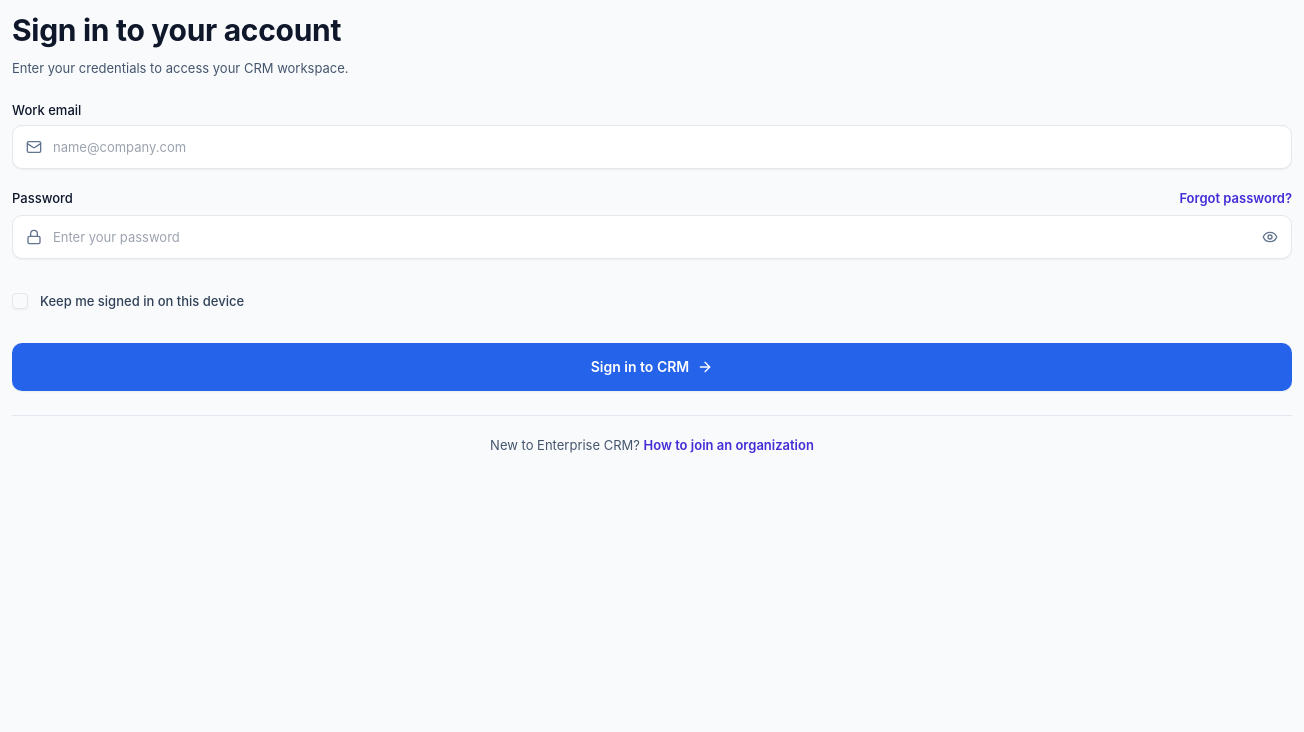
Test: LoginForm › shows inline validation and blocks an empty submission
Click the button "Sign in to CRM" at [652, 367], box 12,343 -> 1292,391
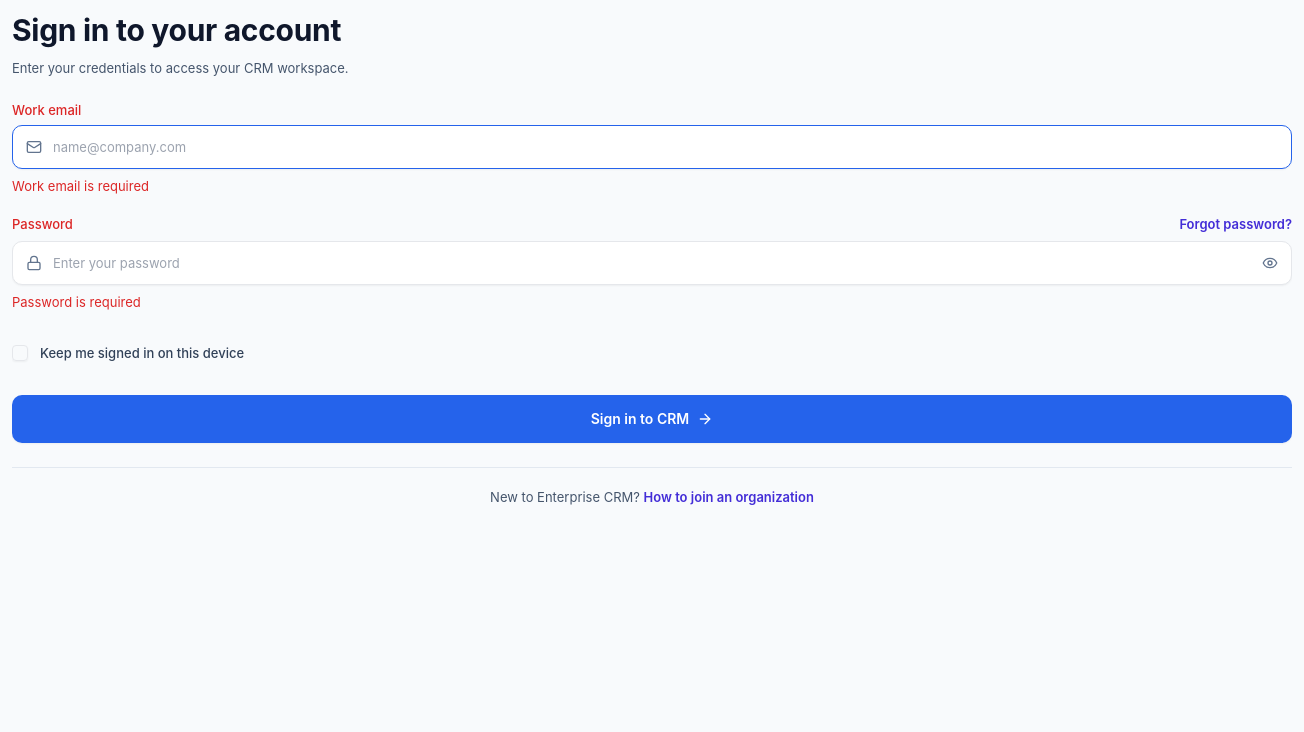
Expected: the text "Work email is required" is shown, 12,178 -> 149,194
Expected: the text "Password is required" is shown, 12,294 -> 141,310
